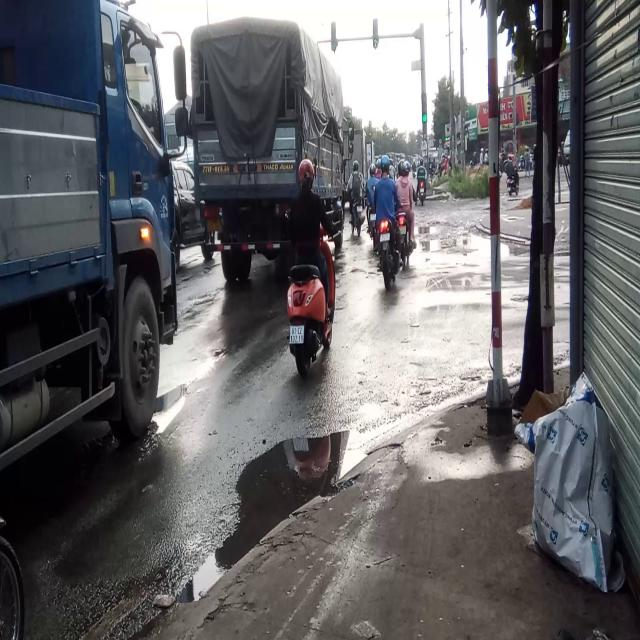bien_trang: (291, 326, 305, 346)
